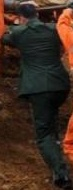boots: (0, 96, 13, 125), (0, 117, 8, 137)
gloves: (0, 2, 7, 18)
hard-hat: (0, 0, 13, 10)
ppe-suit: (0, 0, 36, 114)
